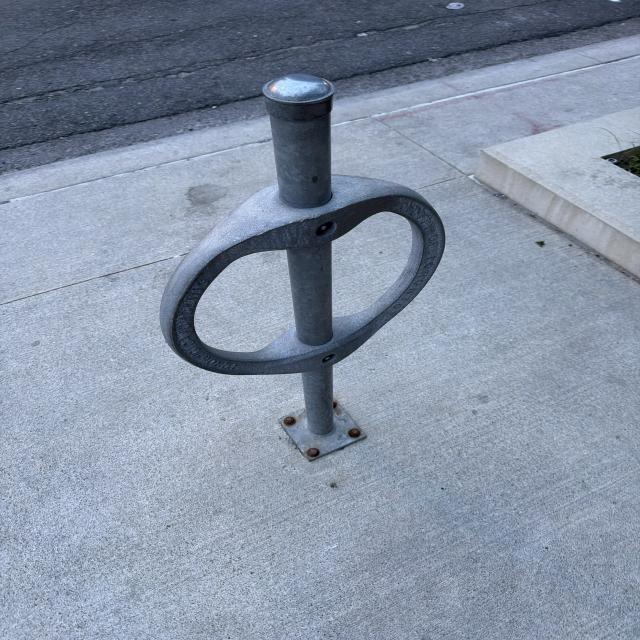Bicycle Rack: (165, 74, 443, 462)
